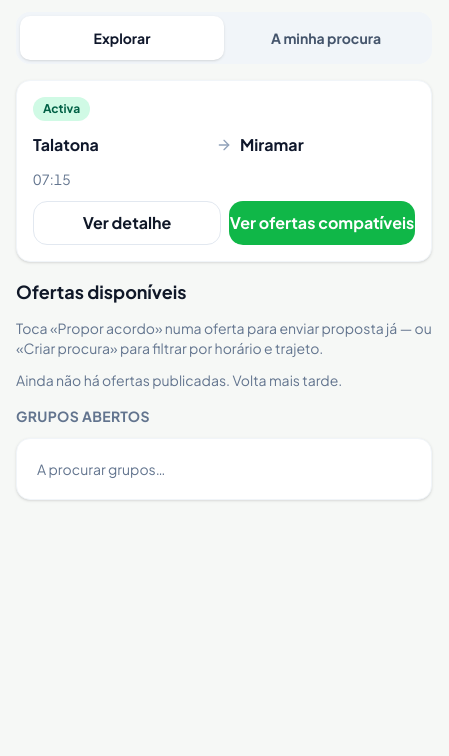
it: PassengerDashboard — marketplace › com procura activa o Início fica em Explorar e A minha procura troca o feed no mesmo ecrã
Expected: the element with test id "procura-sticky" is shown, [16,80,432,262]
Expected: the element with test id "browse-ofertas-feed" is shown, [16,278,432,390]
Click the tab "A minha procura" at (326, 38), box [224,16,428,60]
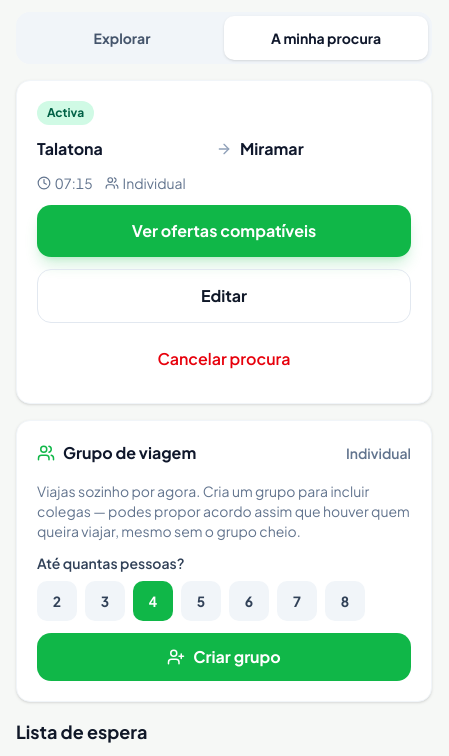
Now the element with test id "browse-ofertas-feed" is gone
Now the element with test id "procura-sticky" is gone
Now the button with aria-label "Editar procura" is shown, box [37,269,411,323]
Click the tab "Explorar" at (122, 38), box [20,16,224,60]
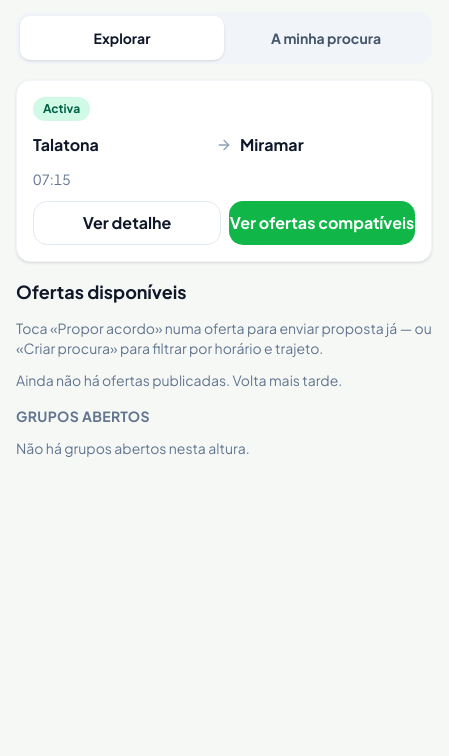
Now the element with test id "browse-ofertas-feed" is shown, box [16,278,432,390]
Now the element with test id "procura-sticky" is shown, box [16,80,432,262]
